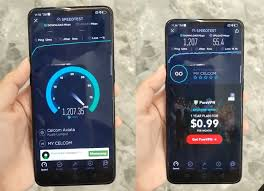oppo: (25, 2, 117, 185), (164, 15, 246, 186)
